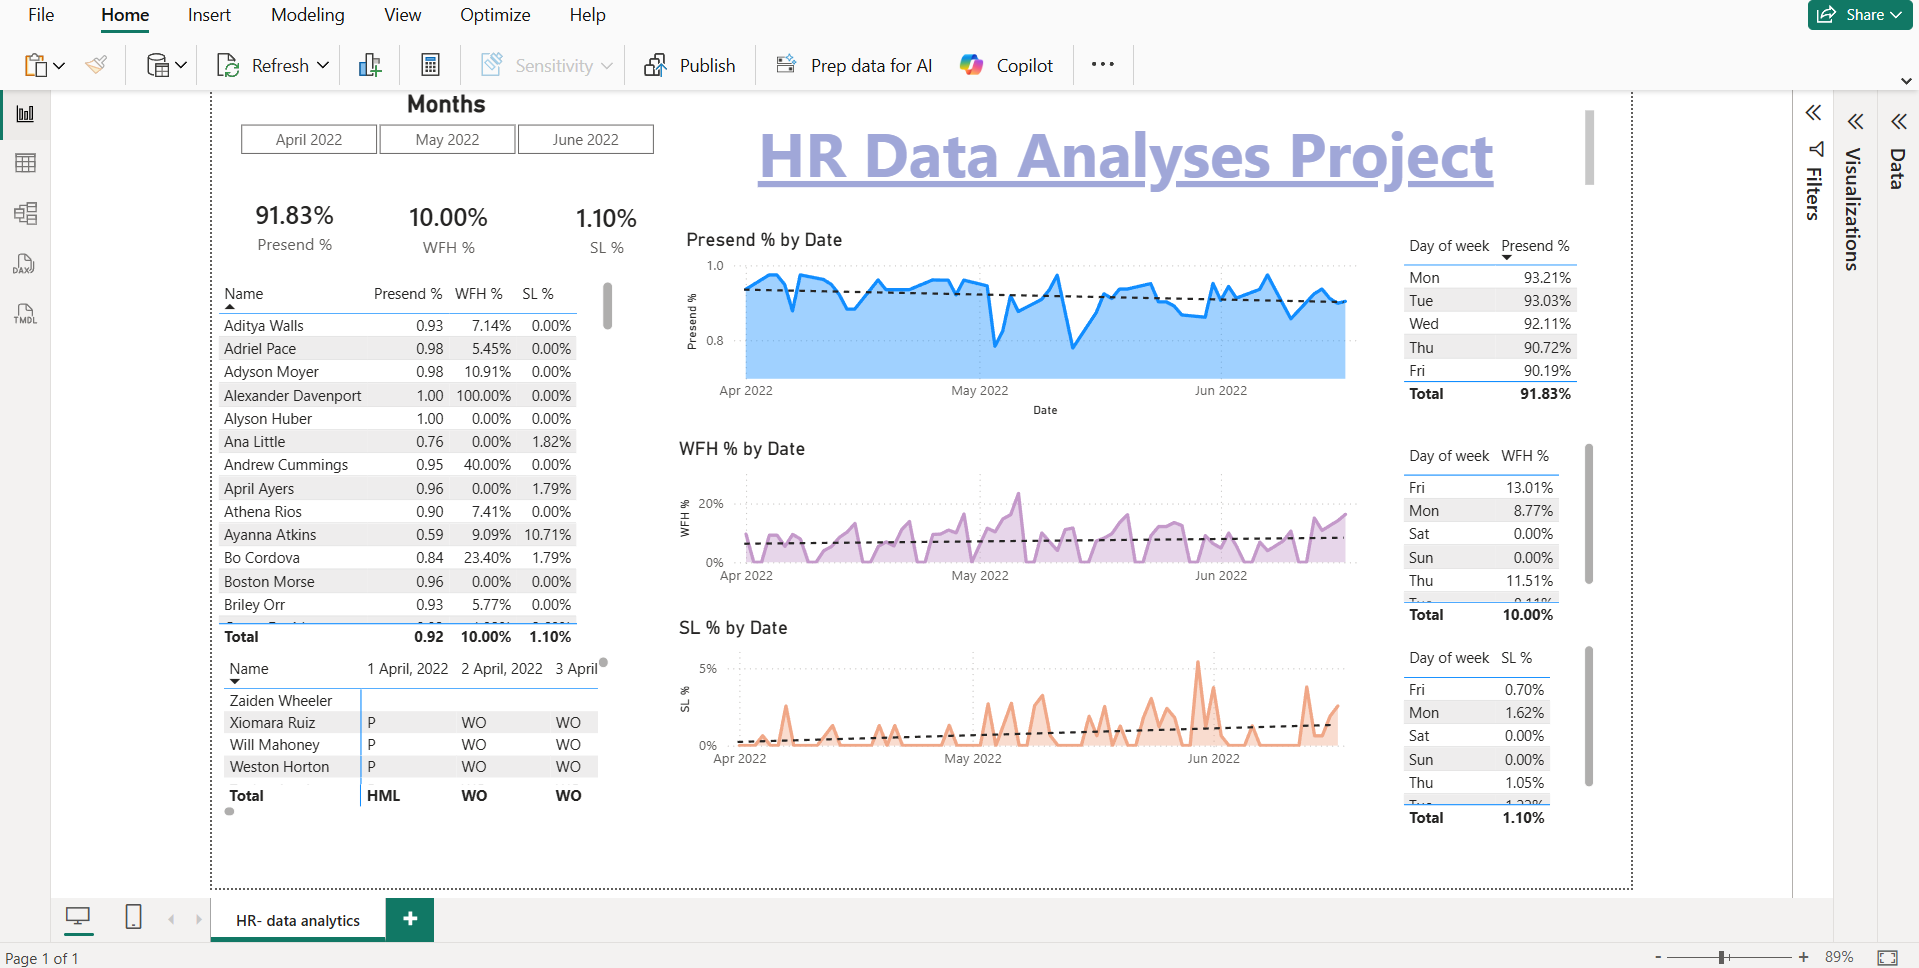

The page's visual inventory and layout, read from the dashboard file:
{"tool":"powerbi","page":{"name":"HR- data analytics","canvas":[1280,720],"ordinal":0},"visuals":[{"type":"cardVisual","fields":{"Data":["Measure Table.Presend %"]},"box":[5.5,71.4,138.6,102.9],"z":0},{"type":"slicer","title":"Months","fields":{"Values":["FinalData.Month"]},"box":[0,0,422.6,64.5],"z":1000},{"type":"cardVisual","fields":{"Data":["Measure Table.WFH %"]},"box":[138.6,72.7,150.9,102.9],"z":2000},{"type":"cardVisual","fields":{"Data":["Measure Table.SL %"]},"box":[289.5,74.1,133.1,101.5],"z":3000},{"type":"tableEx","fields":{"Values":["FinalData.Name","Measure Table.Presend %","Measure Table.WFH %","Measure Table.SL %"]},"box":[0,167.4,366.4,338.9],"z":4000},{"type":"pivotTable","fields":{"Rows":["FinalData.Name"],"Values":["Min(FinalData.Value)"],"Columns":["FinalData.Date"]},"box":[5.5,506.3,356.8,153.7],"z":5000},{"type":"areaChart","fields":{"Category":["FinalData.Date"],"Y":["Measure Table.Presend %"]},"box":[422.6,124.9,628.5,174.3],"z":6000},{"type":"areaChart","fields":{"Category":["FinalData.Date"],"Y":["Measure Table.WFH %"]},"box":[415.8,312.9,635.3,142.7],"z":7000},{"type":"areaChart","fields":{"Category":["FinalData.Date"],"Y":["Measure Table.SL %"]},"box":[415.8,474.8,628.5,146.8],"z":8000},{"type":"tableEx","fields":{"Values":["FinalData.Day of week","Measure Table.Presend %"]},"box":[1069,123.5,182.5,174.3],"z":9000},{"type":"tableEx","fields":{"Values":["FinalData.Day of week","Measure Table.WFH %"]},"box":[1069,312.9,182.5,174.3],"z":9001},{"type":"tableEx","fields":{"Values":["FinalData.Day of week","Measure Table.SL %"]},"box":[1069,495.4,182.5,174.3],"z":9002},{"type":"textbox","box":[404.8,13.7,846.7,89.2],"z":9003}]}

Visuals, with their boxes on the page's 1280x720 design canvas (x1, y1, x2, y2). These are canvas units, not pixel positions in the 1919x968 screenshot, which may show the page scaled, cropped or inside an application window:
cardVisual - Measure Table.Presend %: [6, 71, 144, 174]
"Months" slicer: [0, 0, 423, 64]
cardVisual - Measure Table.WFH %: [139, 73, 290, 176]
cardVisual - Measure Table.SL %: [290, 74, 423, 176]
tableEx - FinalData.Name x Measure Table.Presend %: [0, 167, 366, 506]
pivotTable - FinalData.Name x Min(FinalData.Value): [6, 506, 362, 660]
areaChart - FinalData.Date x Measure Table.Presend %: [423, 125, 1051, 299]
areaChart - FinalData.Date x Measure Table.WFH %: [416, 313, 1051, 456]
areaChart - FinalData.Date x Measure Table.SL %: [416, 475, 1044, 622]
tableEx - FinalData.Day of week x Measure Table.Presend %: [1069, 124, 1252, 298]
tableEx - FinalData.Day of week x Measure Table.WFH %: [1069, 313, 1252, 487]
tableEx - FinalData.Day of week x Measure Table.SL %: [1069, 495, 1252, 670]
textbox: [405, 14, 1252, 103]
